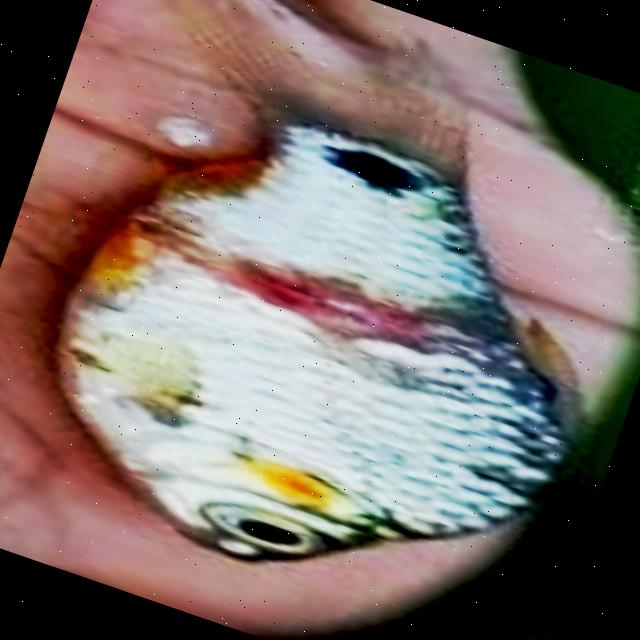Edwardsiella Ictaluri -Bacterial Red Disease-: (61, 126, 565, 556)
